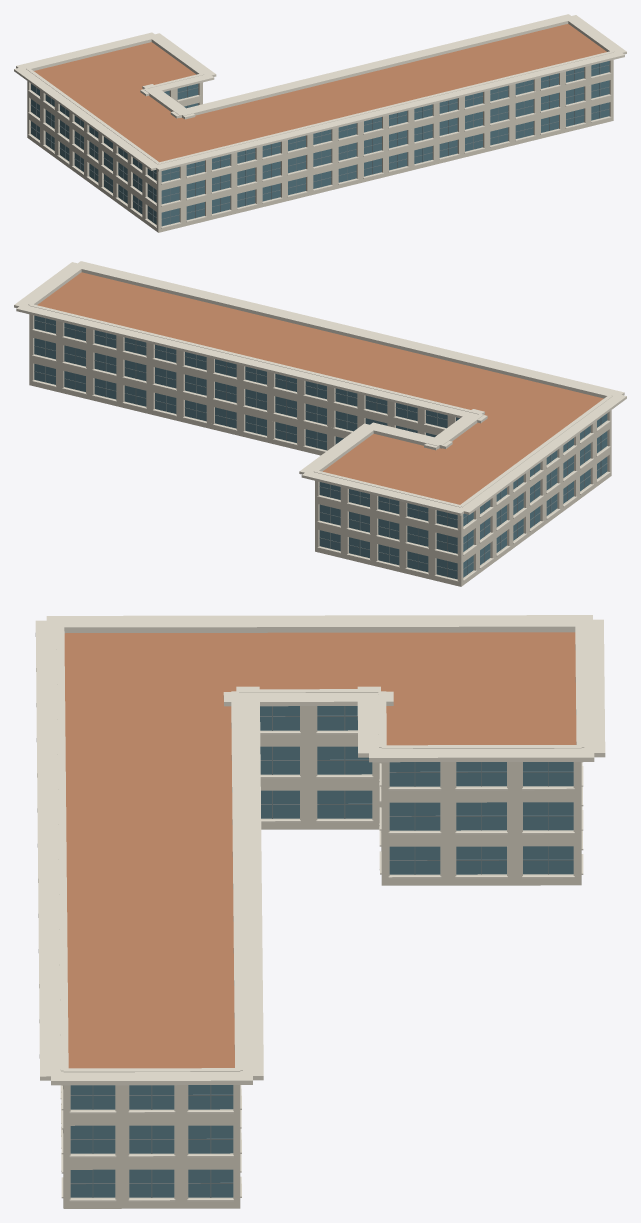
File: pharma_rc.glb
3 renders of one model, top to bottom at view 1: azimuth 30°, elevation 25°; view 2: azimuth 150°, elevation 25°; view 3: azimuth 270°, elevation 25°, orthographic. The views are drawn at different scales.
Visible parts, largest first — view 1: roof, wall, trim, glass, metal; view 2: roof, wall, trim, glass, metal; view 3: roof, trim, glass, wall, metal.
Boxes of the visible parts, left/top/right/bottom form: roof: left=34, top=24, right=606, bottom=162; wall: left=27, top=60, right=613, bottom=232; trim: left=14, top=14, right=626, bottom=228; glass: left=31, top=61, right=609, bottom=226; metal: left=31, top=63, right=609, bottom=224; roof: left=37, top=272, right=603, bottom=504; wall: left=29, top=314, right=611, bottom=586; trim: left=14, top=261, right=626, bottom=581; glass: left=34, top=315, right=607, bottom=579; metal: left=34, top=318, right=607, bottom=577; roof: left=64, top=632, right=576, bottom=1068; trim: left=35, top=615, right=605, bottom=1201; glass: left=70, top=706, right=573, bottom=1197; wall: left=63, top=706, right=581, bottom=1208; metal: left=70, top=706, right=573, bottom=1197.
Bounding box in the file's own units: 70.38 × 9.74 × 36.35.
